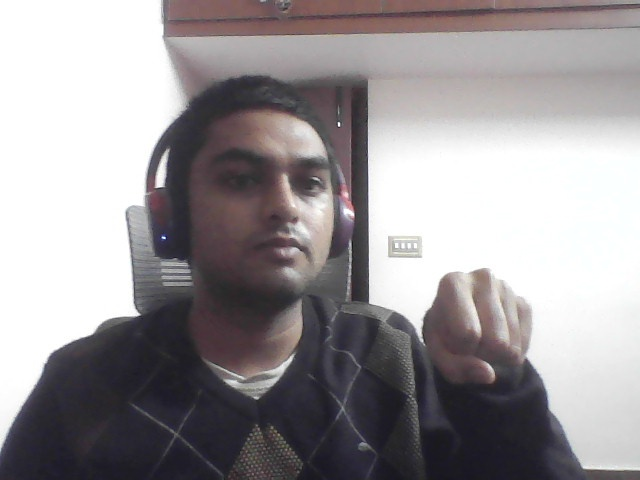Yes: (398, 233, 573, 437)
